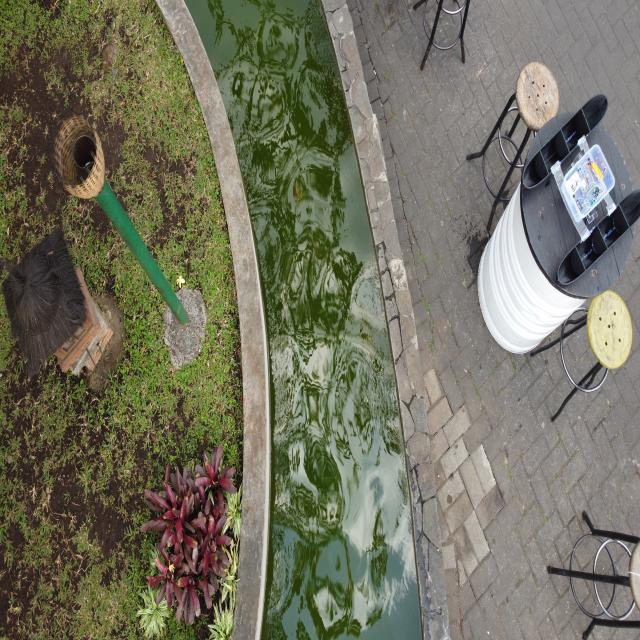Ponds: (157, 2, 451, 639)
